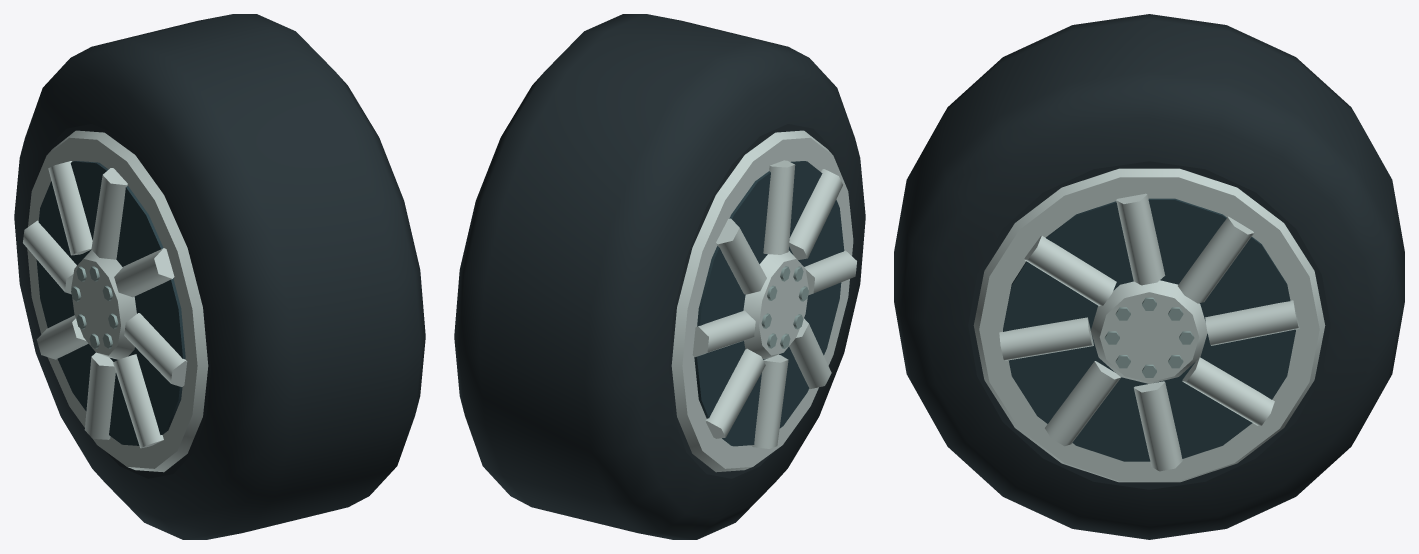
File: wheel_heavy.glb
3 views of the same model, side by side, from view 1: azimuth 30°, elevation 25°; view 2: azimuth 150°, elevation 25°; view 3: azimuth 270°, elevation 25° (orthographic).
Visible parts, largest first — view 1: Wheel; view 2: Wheel; view 3: Wheel.
Boxes of the visible parts, <box> form: Wheel: <box>14,14,425,539</box>; Wheel: <box>454,14,865,539</box>; Wheel: <box>894,14,1404,539</box>.
Bounding box in the file's own units: 1.14 × 2 × 2.
